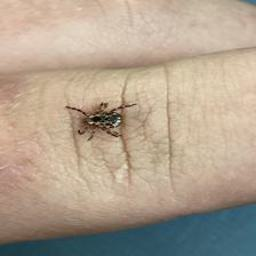Dermacentor variabilis: (63, 101, 136, 140)
